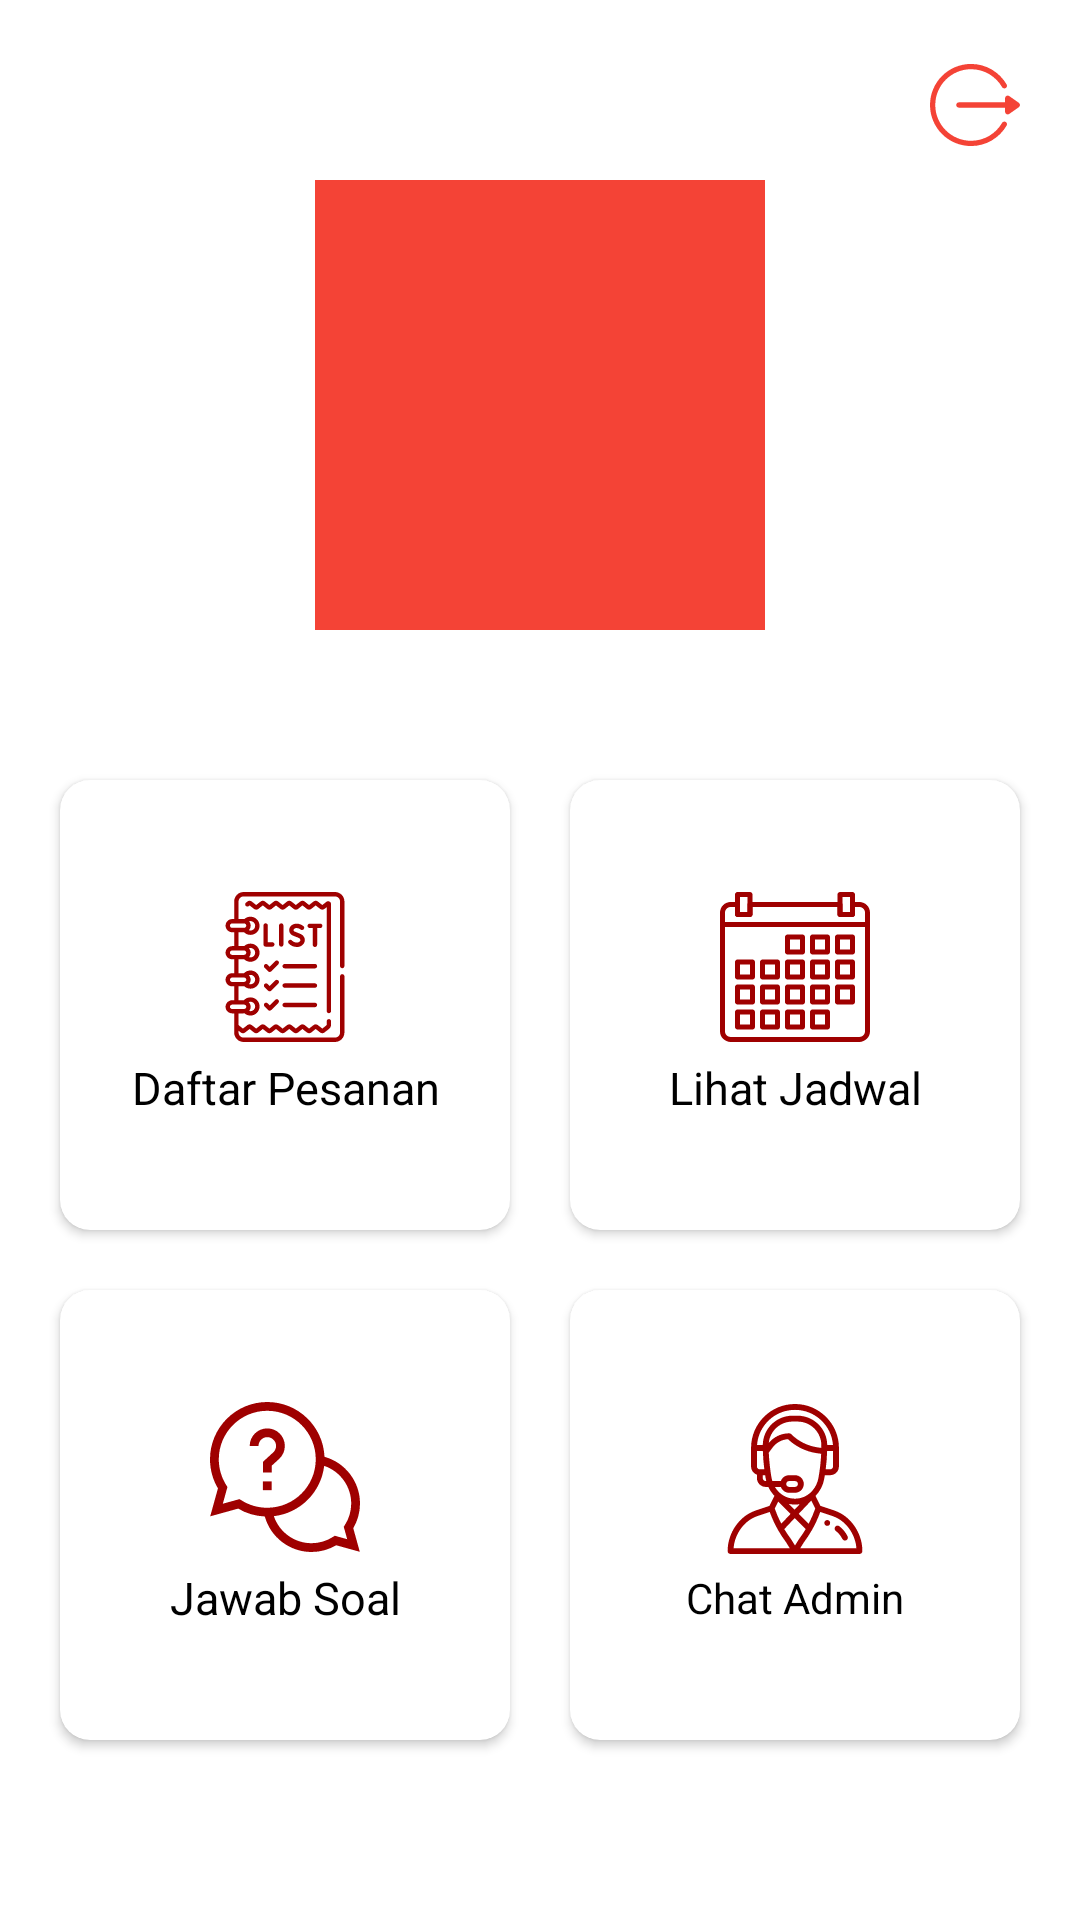

Icon click points for this 1080px x 1920px phone screenshot, format (x,y):
calendar: (795,967)
